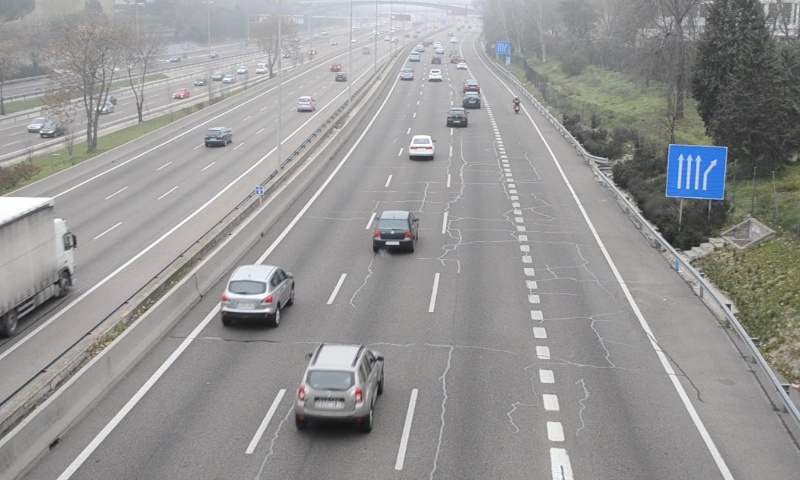car: (296, 344, 384, 420), (221, 265, 294, 316), (373, 210, 418, 251), (408, 134, 435, 157), (448, 107, 468, 128), (463, 92, 482, 108), (464, 79, 481, 93)
motorcycle: (513, 96, 522, 115)
